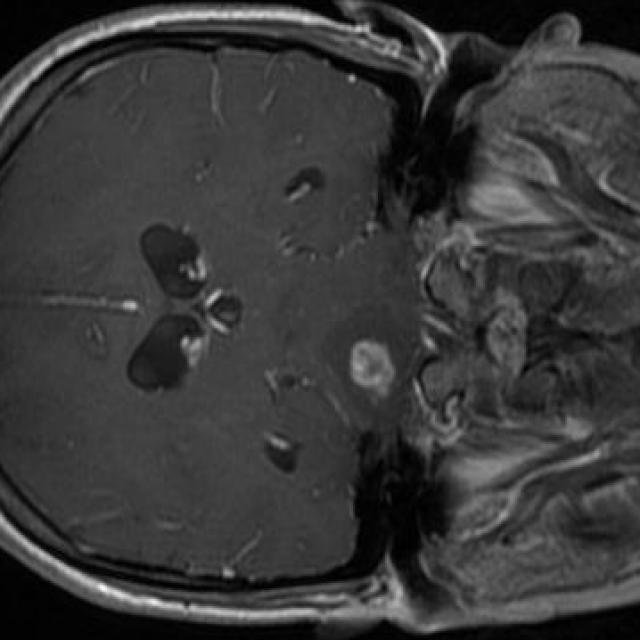glioma: (326, 305, 417, 426)
